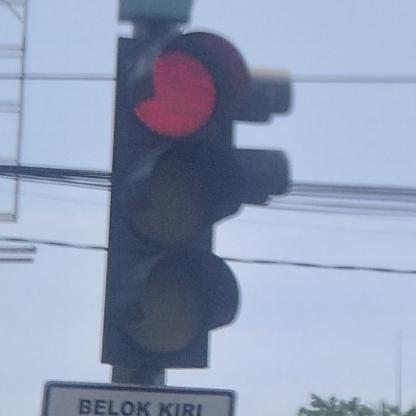red: (99, 32, 245, 372)
